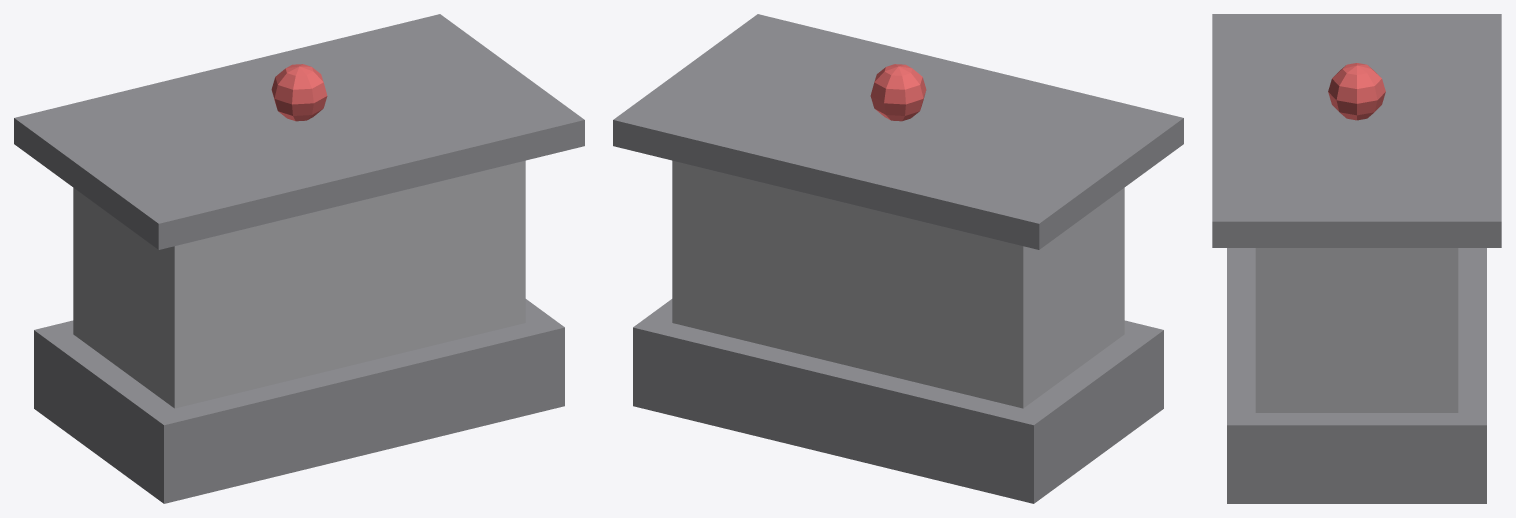
The model's file is sm_altar.glb.
3 views of the same model, side by side, from view 1: azimuth 30°, elevation 25°; view 2: azimuth 150°, elevation 25°; view 3: azimuth 270°, elevation 25° (orthographic).
Visible parts, largest first — view 1: sm_altar; view 2: sm_altar; view 3: sm_altar.
Part boxes in pixels (box(x1,y1,x2,y2)): sm_altar: box(14, 14, 584, 503); sm_altar: box(613, 14, 1183, 503); sm_altar: box(1212, 14, 1501, 503).
Size of the model in its own units: 1.7 by 1.3 by 1.
